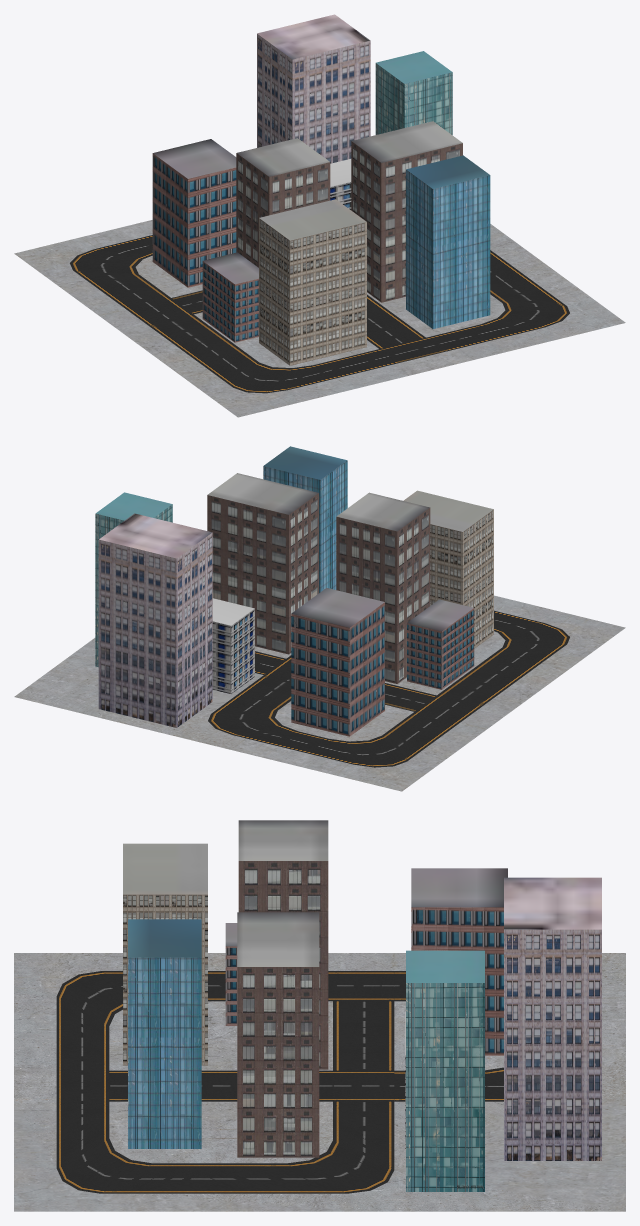
Rendered from CityTile.fbx.
3 renders of one model, top to bottom at view 1: azimuth 30°, elevation 25°; view 2: azimuth 150°, elevation 25°; view 3: azimuth 270°, elevation 25°, orthographic. The views are drawn at different scales.
Visible parts, largest first — view 1: CityTile, Buioding5, Buioding7, Buioding3, Building1, Buioding4, Buioding9, Buioding6, Building1.1, Buioding2; view 2: CityTile, Buioding7, Buioding4, Building1, Buioding9, Buioding5, Building1.1, Buioding3, Buioding2, Buioding6; view 3: CityTile, Buioding7, Buioding4, Buioding6, Buioding3, Buioding9, Building1, Buioding5, Building1.1.
Part boxes in pixels (box(x1,y1,x2,y2)): CityTile: box(14, 220, 625, 417); Buioding5: box(259, 199, 366, 365); Buioding7: box(257, 14, 370, 163); Buioding3: box(406, 155, 490, 328); Building1: box(152, 139, 236, 287); Buioding4: box(351, 121, 462, 302); Buioding9: box(236, 138, 330, 267); Buioding6: box(375, 51, 452, 134); Building1.1: box(202, 252, 258, 342); Buioding2: box(330, 159, 351, 209); CityTile: box(14, 595, 625, 791); Buioding7: box(98, 513, 212, 727); Buioding4: box(207, 473, 318, 654); Building1: box(291, 588, 384, 736); Buioding9: box(336, 492, 430, 683); Buioding5: box(403, 490, 493, 648); Building1.1: box(407, 599, 474, 689); Buioding3: box(263, 446, 347, 592); Buioding2: box(212, 598, 254, 693); Buioding6: box(95, 492, 172, 667); CityTile: box(14, 953, 625, 1211); Buioding7: box(504, 877, 601, 1160); Buioding4: box(237, 912, 319, 1157); Buioding6: box(406, 950, 484, 1191); Buioding3: box(128, 919, 201, 1148); Buioding9: box(238, 820, 328, 1069); Building1: box(411, 868, 507, 1055); Buioding5: box(123, 843, 207, 1065); Building1.1: box(225, 923, 237, 1025).
Size of the model in its own units: 100 by 100 by 41.75.
Materials: 9 (9 with a texture image).
